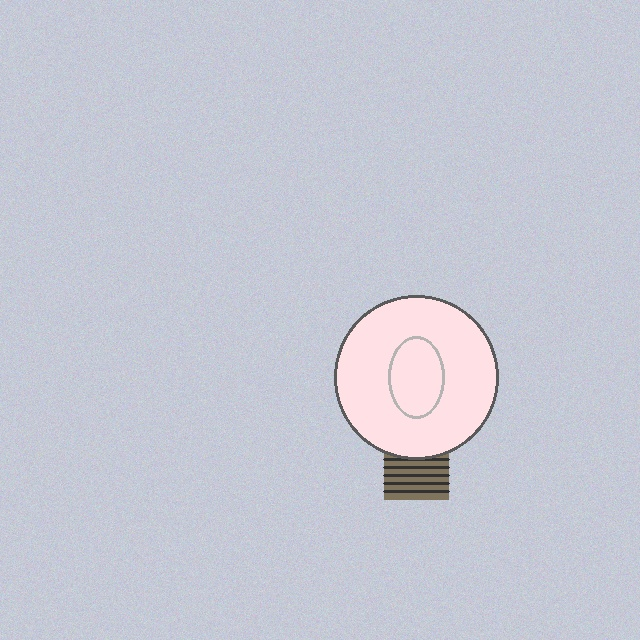bulb: (330, 291, 502, 504)
